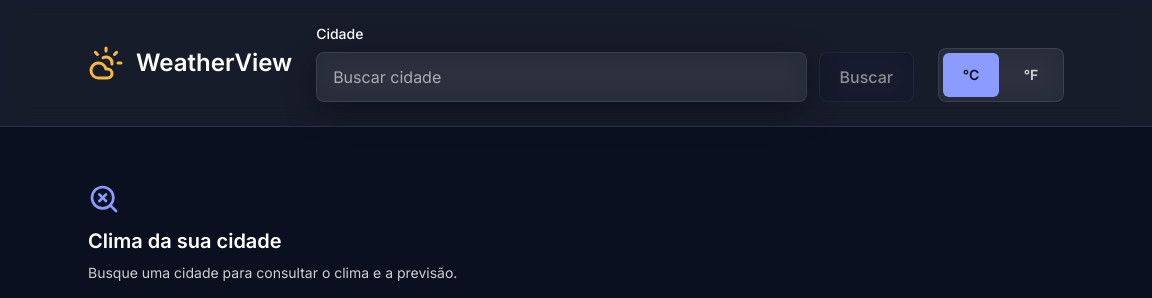
Test: fluxo de busca (App + useWeather real) › 0 resultados: exibe estado vazio sem consultar o clima
In the search field: (561, 77) [316,52,806,102], type "Xyzzy"
Then press Enter
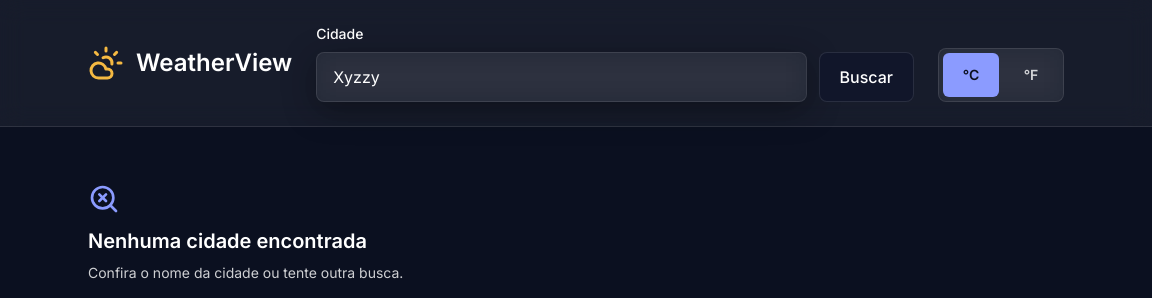
Result: the heading "Nenhuma cidade encontrada" is shown at [88,229,367,253]
